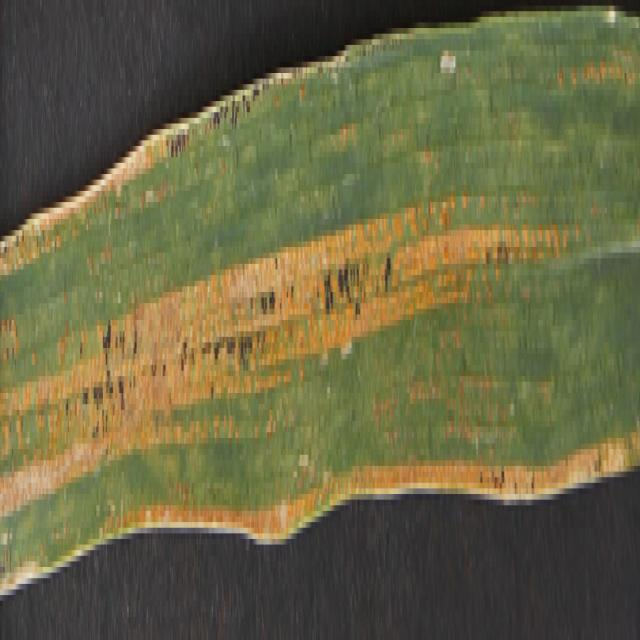leaf rust: (1, 152, 638, 600)
